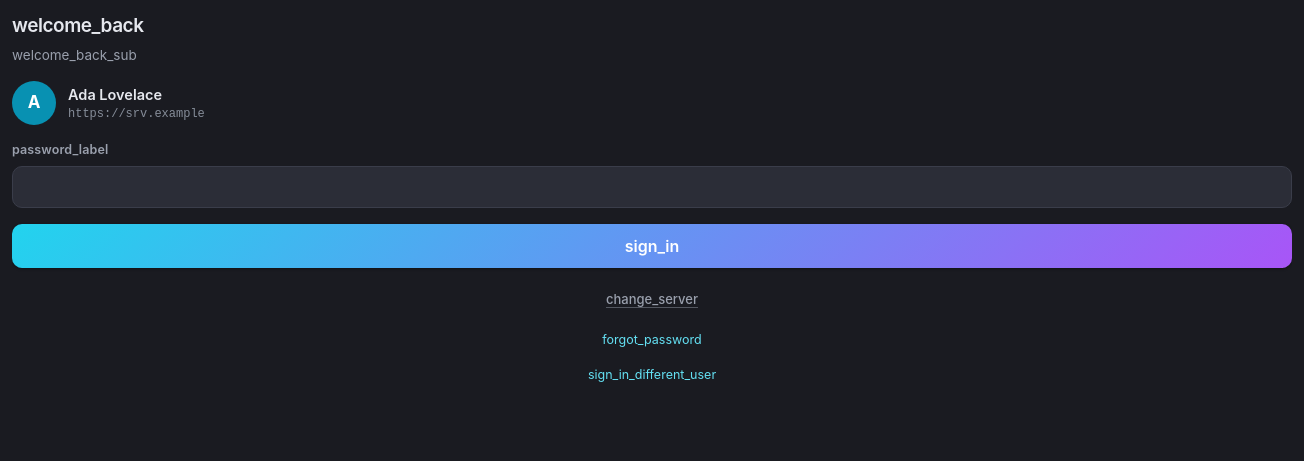
Test: AddIdentityWizard › swaps the welcome-back block for an editable email while the server stays locked
The image size is (1304, 461).
expect the text "Ada Lovelace" is shown: met, box [68, 86, 162, 103]
What coordinates should you click on to do the following:
click the button with test id "wizard-different-user"
I would click on:
 (652, 375)
Its box is [588, 366, 716, 385].
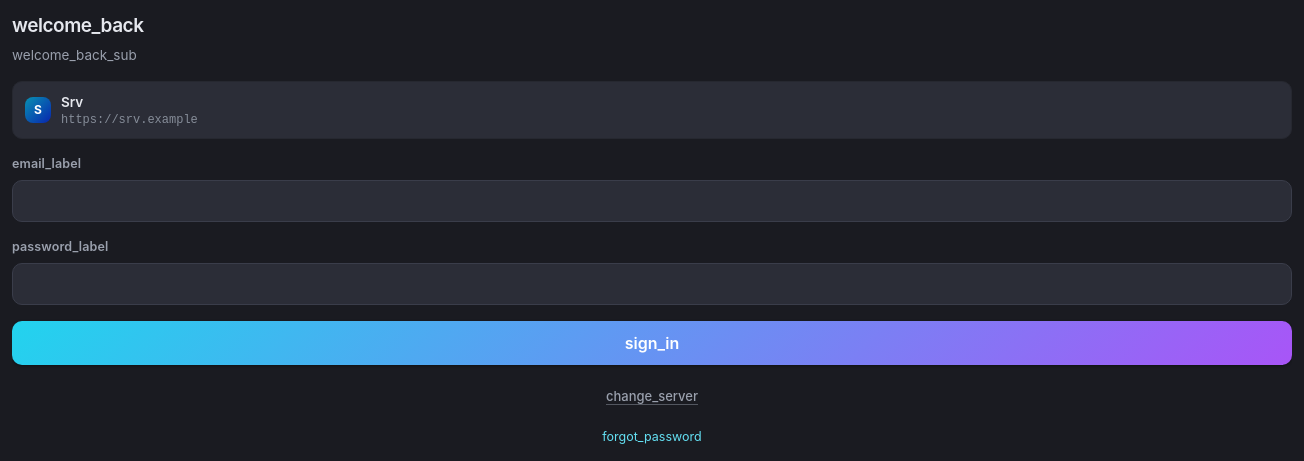
expect the field with test id "wizard-email-input" is empty: met, box [12, 180, 1292, 222]
expect the text with test id "wizard-identity-name" is gone: met
